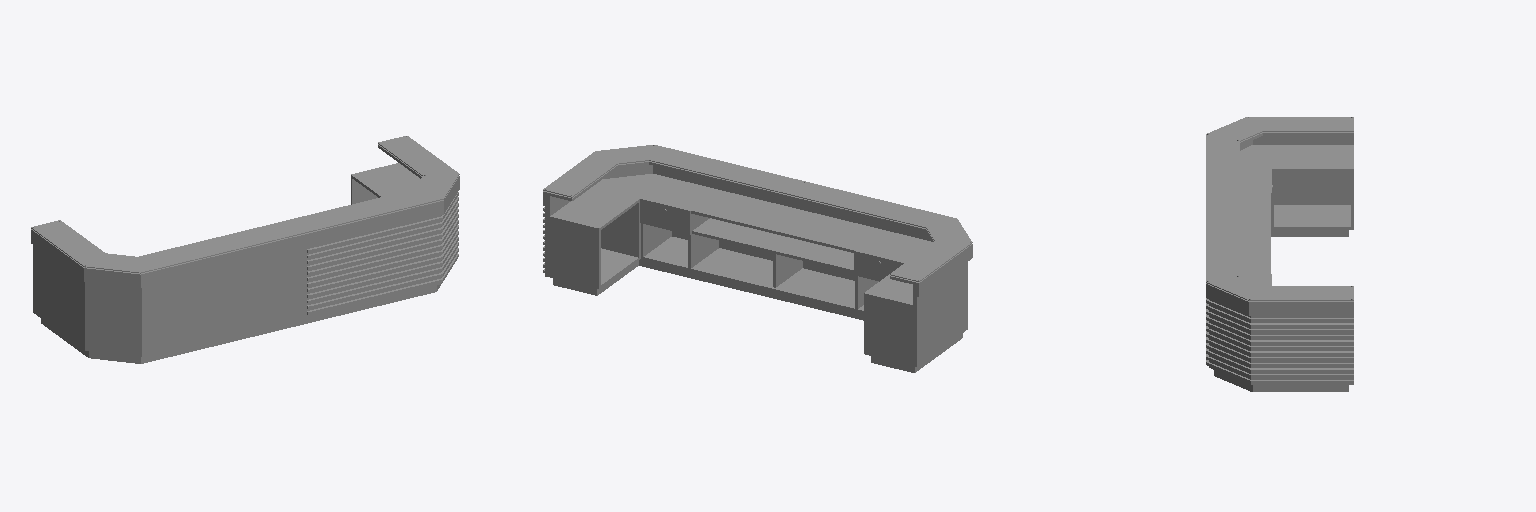
File: reception.obj
The picture shows the model from 3 angles: view 1: azimuth 30°, elevation 25°; view 2: azimuth 150°, elevation 25°; view 3: azimuth 270°, elevation 25°; orthographic projection.
Parts seen in each view (by area): view 1: objMesh; view 2: objMesh; view 3: objMesh.
Boxes of the visible parts, <box> form: objMesh: <box>31,136,459,363</box>; objMesh: <box>543,145,972,372</box>; objMesh: <box>1206,117,1353,391</box>.
Size of the model in its own units: 165 by 40.35 by 56.3.